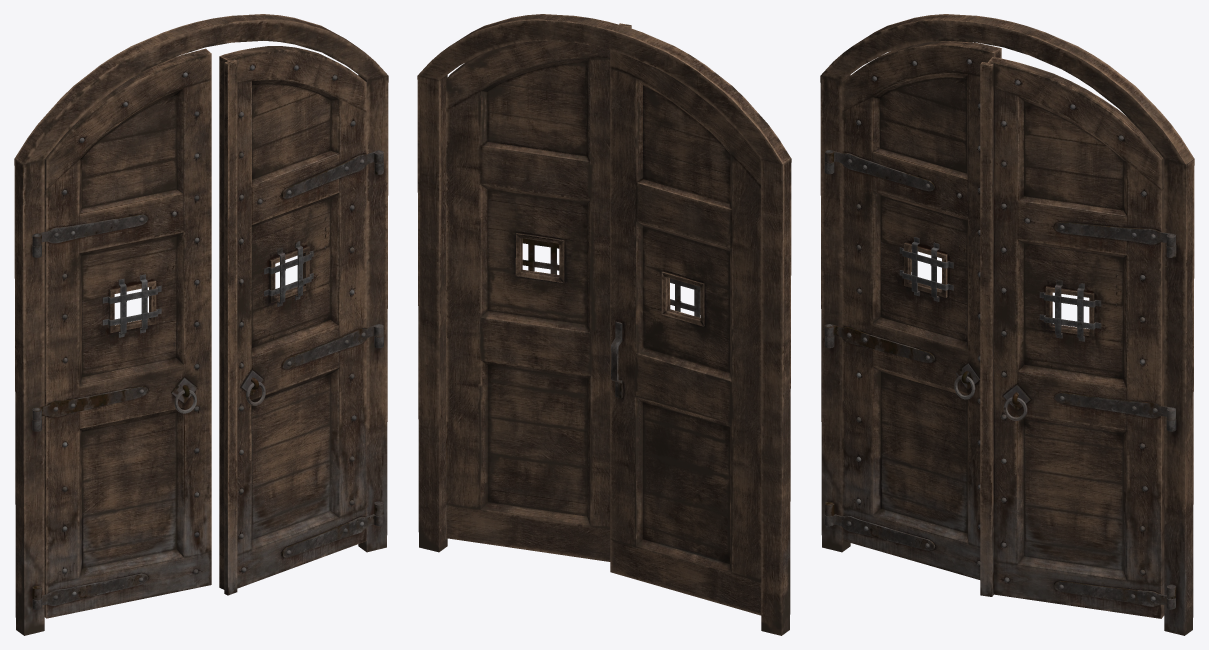
Rendered from large_castle_door_lod1.glb.
The picture shows the model from 3 angles, left to right: view 1: azimuth 30°, elevation 25°; view 2: azimuth 150°, elevation 25°; view 3: azimuth 330°, elevation 25°; orthographic projection.
Visible parts, largest first — view 1: large_castle_door_left, large_castle_door_right, large_castle_door_frame; view 2: large_castle_door_right, large_castle_door_left, large_castle_door_frame; view 3: large_castle_door_right, large_castle_door_left, large_castle_door_frame.
Part boxes in pixels (left/top/right/bottom): large_castle_door_left: left=32, top=48, right=211, bottom=618; large_castle_door_right: left=219, top=46, right=383, bottom=595; large_castle_door_frame: left=14, top=14, right=388, bottom=635; large_castle_door_right: left=446, top=23, right=631, bottom=561; large_castle_door_left: left=610, top=50, right=761, bottom=615; large_castle_door_frame: left=417, top=14, right=791, bottom=635; large_castle_door_right: left=980, top=57, right=1175, bottom=618; large_castle_door_left: left=824, top=41, right=1001, bottom=579; large_castle_door_frame: left=820, top=14, right=1194, bottom=635.
Bounding box in the file's own units: 2.01 × 2.96 × 0.2963.
Materials: 1 (1 with a texture image).
